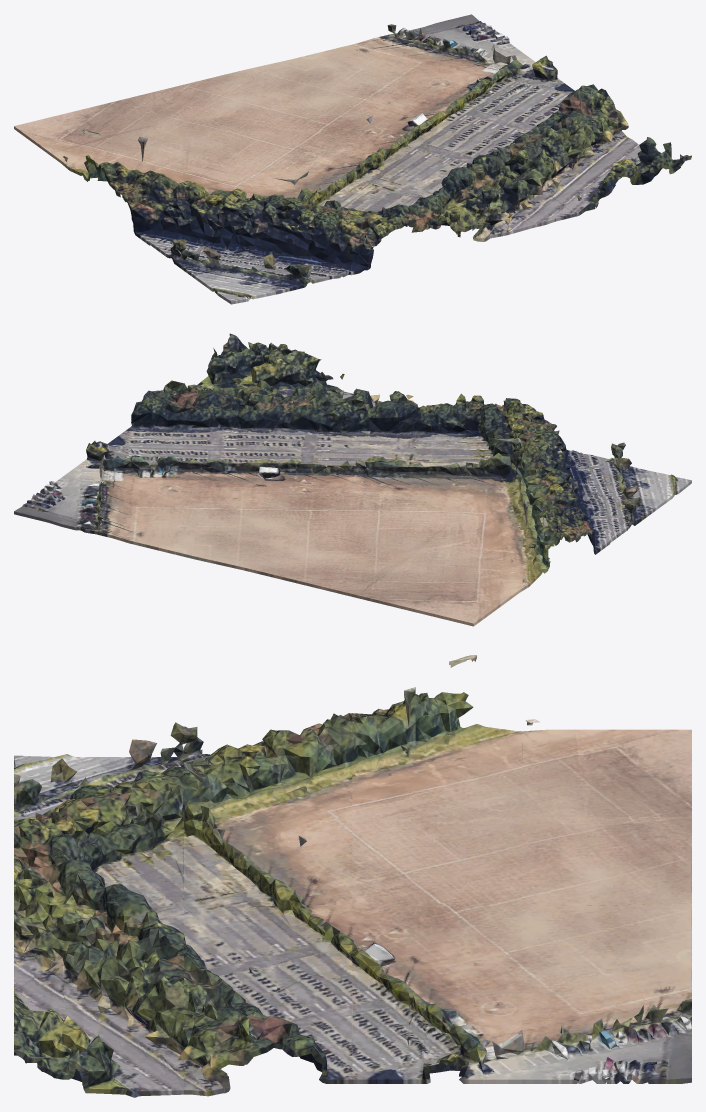
Rendered from Split6.fbx.
3 views of the same model, one above another, from view 1: azimuth 30°, elevation 25°; view 2: azimuth 150°, elevation 25°; view 3: azimuth 270°, elevation 25° (orthographic). The views are drawn at different scales.
Visible parts, largest first — view 1: BuildingMesh-00156; view 2: BuildingMesh-00156; view 3: BuildingMesh-00156.
Part boxes in pixels (<box>): BuildingMesh-00156: <box>14,14,691,304</box>; BuildingMesh-00156: <box>14,333,691,626</box>; BuildingMesh-00156: <box>14,655,691,1097</box>.
Bounding box in the file's own units: 196 × 27.46 × 160.
5 materials, 5 textured.
